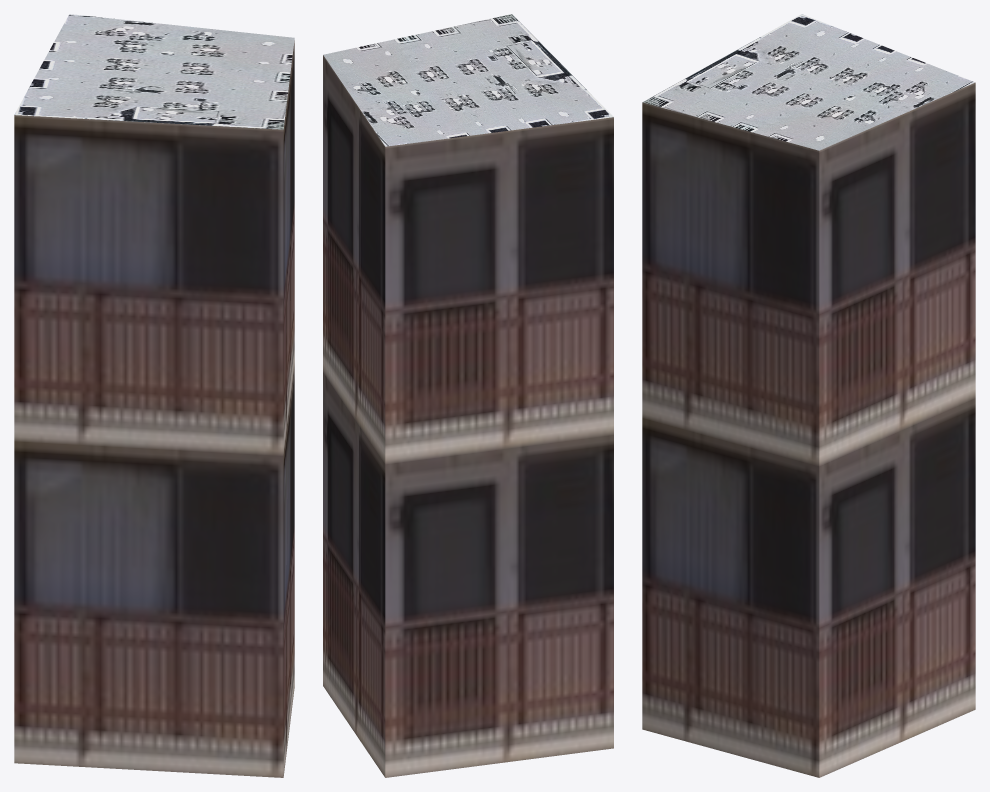
Rendered from ResTex__2720.fbx.
3 views of the same model, side by side, from view 1: azimuth 30°, elevation 25°; view 2: azimuth 150°, elevation 25°; view 3: azimuth 270°, elevation 25° (orthographic). The views are drawn at different scales.
Visible parts, largest first — view 1: CityEngineMaterial_6_m, CityEngineMaterial_8_m; view 2: CityEngineMaterial_6_m, CityEngineMaterial_8_m; view 3: CityEngineMaterial_6_m, CityEngineMaterial_8_m.
Boxes of the visible parts, x1=… form: CityEngineMaterial_6_m: x1=14, y1=40, x2=294, y2=777; CityEngineMaterial_8_m: x1=14, y1=14, x2=294, y2=129; CityEngineMaterial_6_m: x1=323, y1=55, x2=613, y2=777; CityEngineMaterial_8_m: x1=323, y1=14, x2=613, y2=146; CityEngineMaterial_6_m: x1=642, y1=82, x2=975, y2=777; CityEngineMaterial_8_m: x1=643, y1=14, x2=975, y2=150.
Bounding box in the file's own units: 2.81 × 6 × 2.89.
2 materials, 2 textured.
